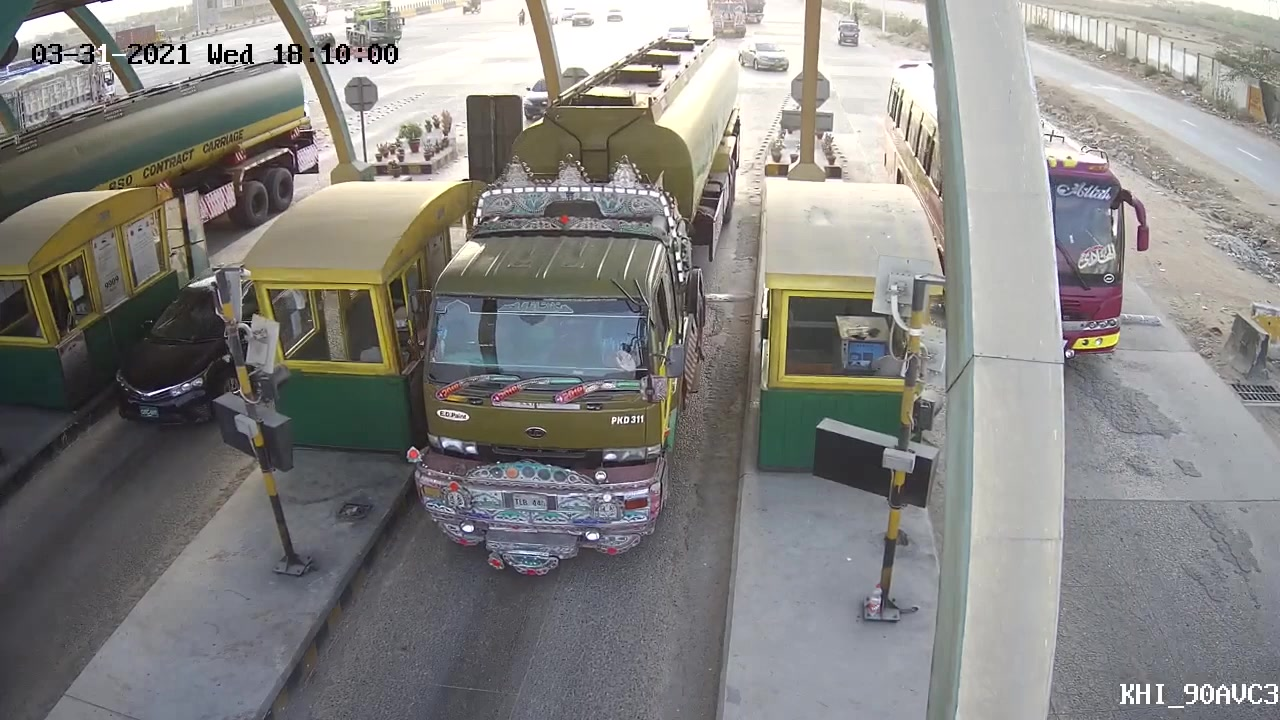F6: (399, 28, 751, 580)
